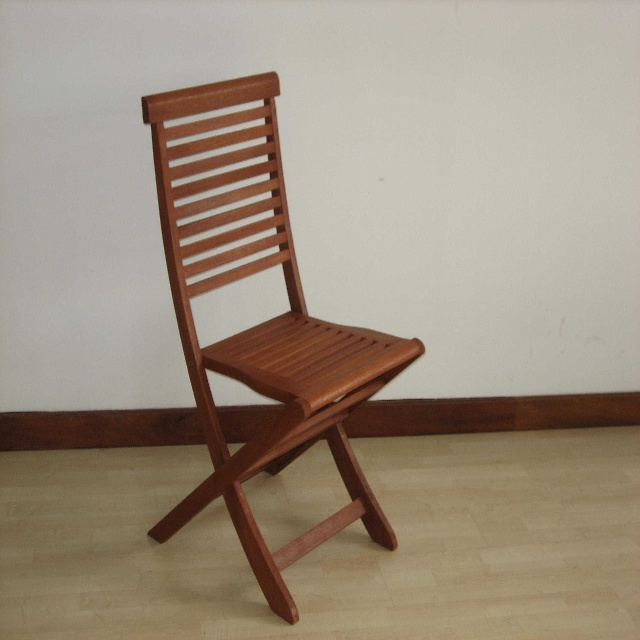obstacle: (142, 72, 424, 624)
